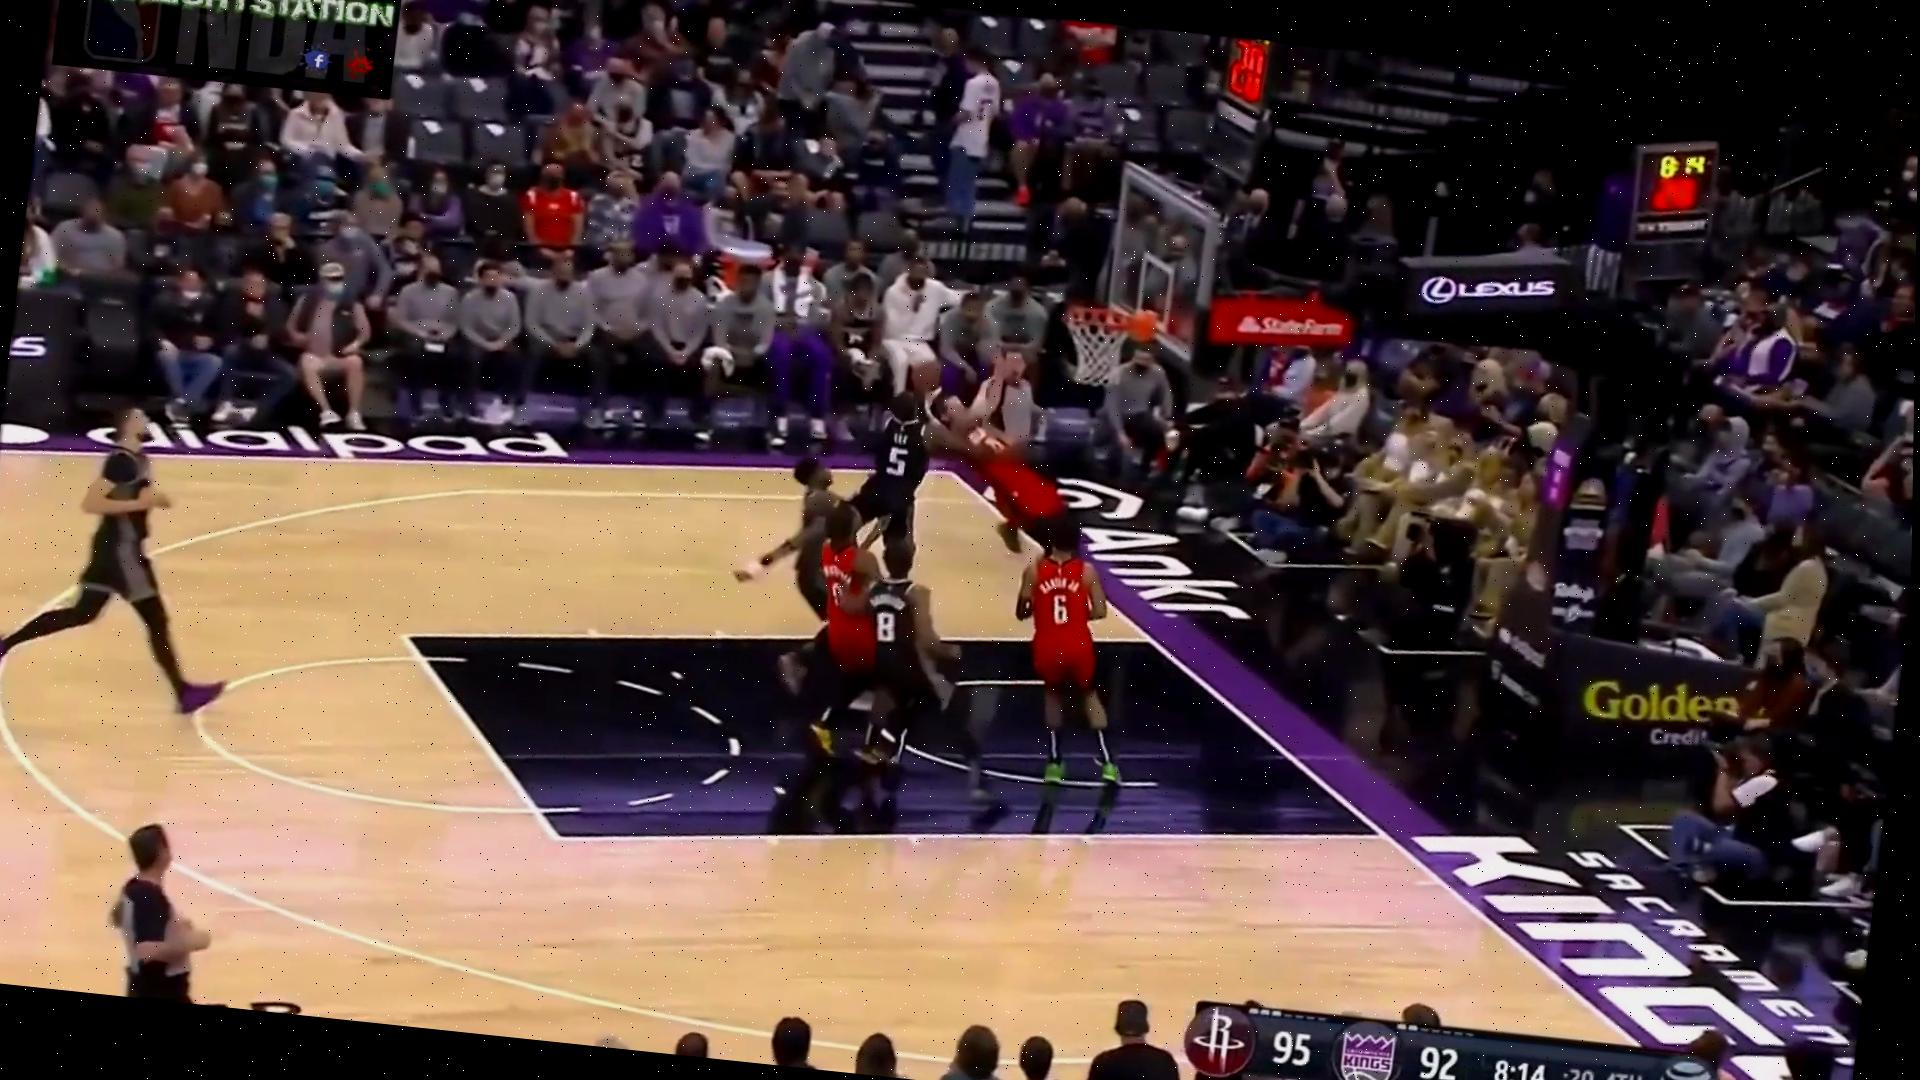foul: (783, 338, 1087, 613)
